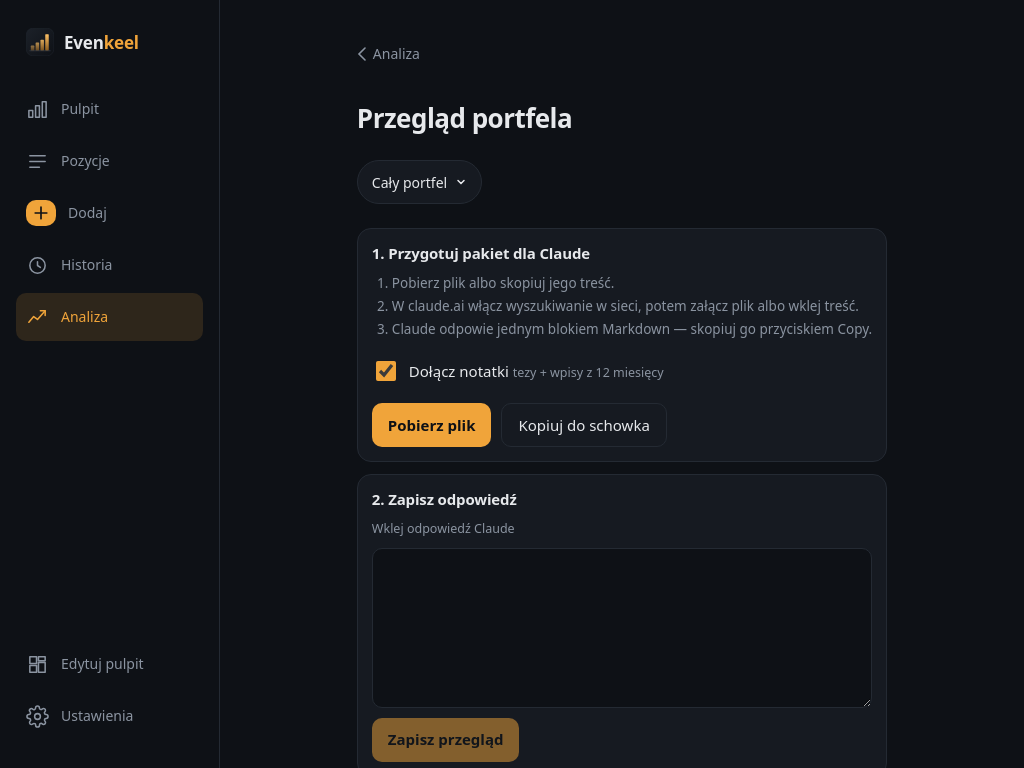
Przegląd portfela › says to download the file when the clipboard refuses
Click the button "Kopiuj do schowka" at (584, 425), box [502,403,667,447]
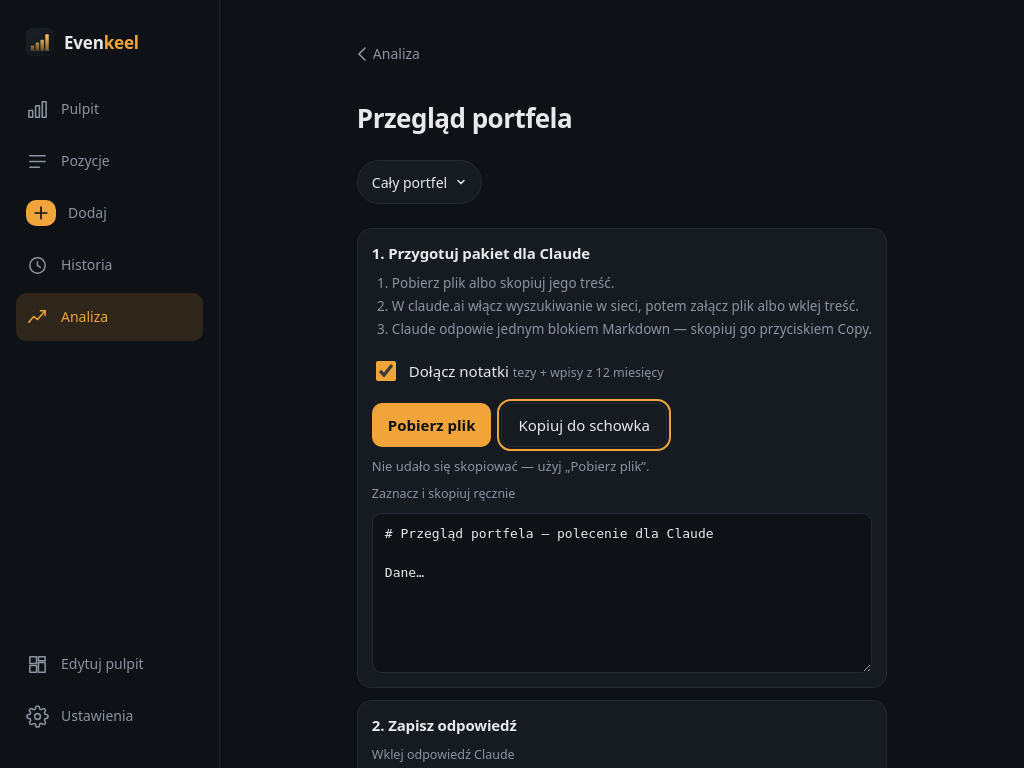
Result: the text "Nie udało się skopiować — użyj „Pobierz plik”." is shown at [372,457,650,475]
